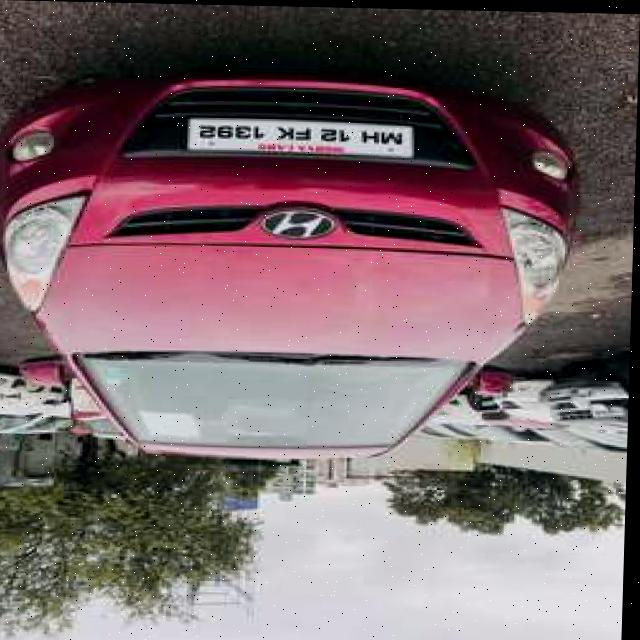plate: (187, 113, 414, 156)
